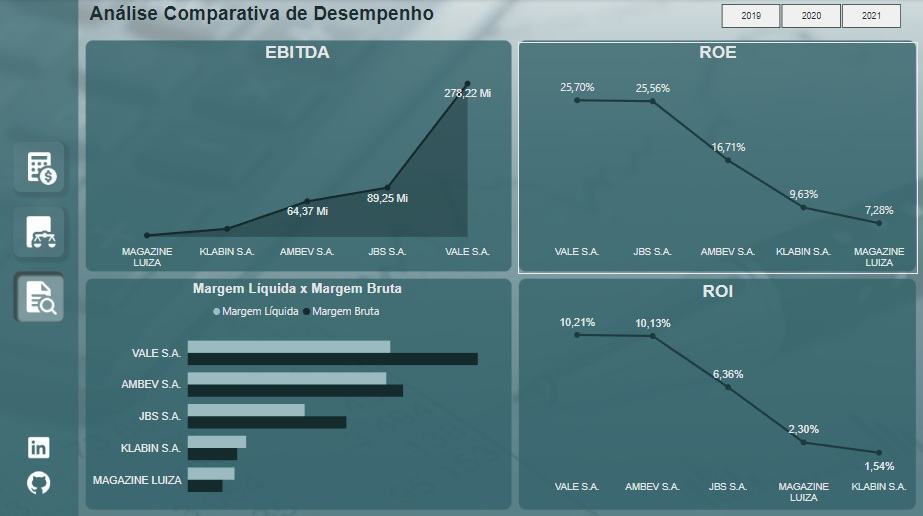

The page's visual inventory and layout, read from the dashboard file:
{"tool":"powerbi","page":{"name":"Análise","canvas":[1280,720],"ordinal":2},"visuals":[{"type":"clusteredColumnChart","title":"Lucros/Prejuízos","fields":{"Category":["dEmpresas.Nome_empresa"],"Y":["Medidas.Lucro/Prejuízo Total"]},"box":[719,401.7,554.1,304.8],"z":0},{"type":"stackedAreaChart","title":"EBITDA","fields":{"Category":["dEmpresas.Nome_empresa"],"Y":["Medidas.EBITDA Total"]},"box":[120.5,72,586,308.9],"z":1000},{"type":"clusteredBarChart","title":"ROE","fields":{"Category":["dEmpresas.Nome_empresa"],"Y":["Medidas.ROE"]},"box":[719,72,554.1,308.9],"z":2000},{"type":"clusteredBarChart","title":"Margem Líquida x Margem Bruta","fields":{"Category":["dEmpresas.Nome_empresa"],"Y":["Medidas.Margem Líquida","Medidas.Margem Bruta"]},"box":[120.5,401.7,586,304.8],"z":3000},{"type":"slicer","fields":{"Values":["dCalendario.Ano"]},"box":[886.6,4.2,386.5,47.1],"z":4000},{"type":"textbox","box":[120.5,6.9,728.7,47.1],"z":5000},{"type":"actionButton","box":[12.5,192.6,87.3,83.1],"z":6000},{"type":"actionButton","box":[12.5,282.6,87.3,77.6],"z":7000},{"type":"actionButton","box":[33.2,604,47.1,36],"z":8000},{"type":"actionButton","box":[33.2,653.9,47.1,40.2],"z":9000}]}

Visuals, with their boxes on the page's 1280x720 design canvas (x1, y1, x2, y2). These are canvas units, not pixel positions in the 923x516 screenshot, which may show the page scaled, cropped or inside an application window:
"Lucros/Prejuízos" clusteredColumnChart: (719, 402, 1273, 706)
"EBITDA" stackedAreaChart: (120, 72, 706, 381)
"ROE" clusteredBarChart: (719, 72, 1273, 381)
"Margem Líquida x Margem Bruta" clusteredBarChart: (120, 402, 706, 706)
slicer - dCalendario.Ano: (887, 4, 1273, 51)
textbox: (120, 7, 849, 54)
actionButton: (12, 193, 100, 276)
actionButton: (12, 283, 100, 360)
actionButton: (33, 604, 80, 640)
actionButton: (33, 654, 80, 694)
